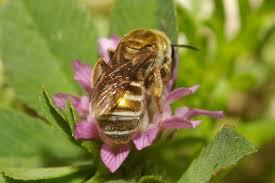Seladonia: (79, 18, 181, 144)
